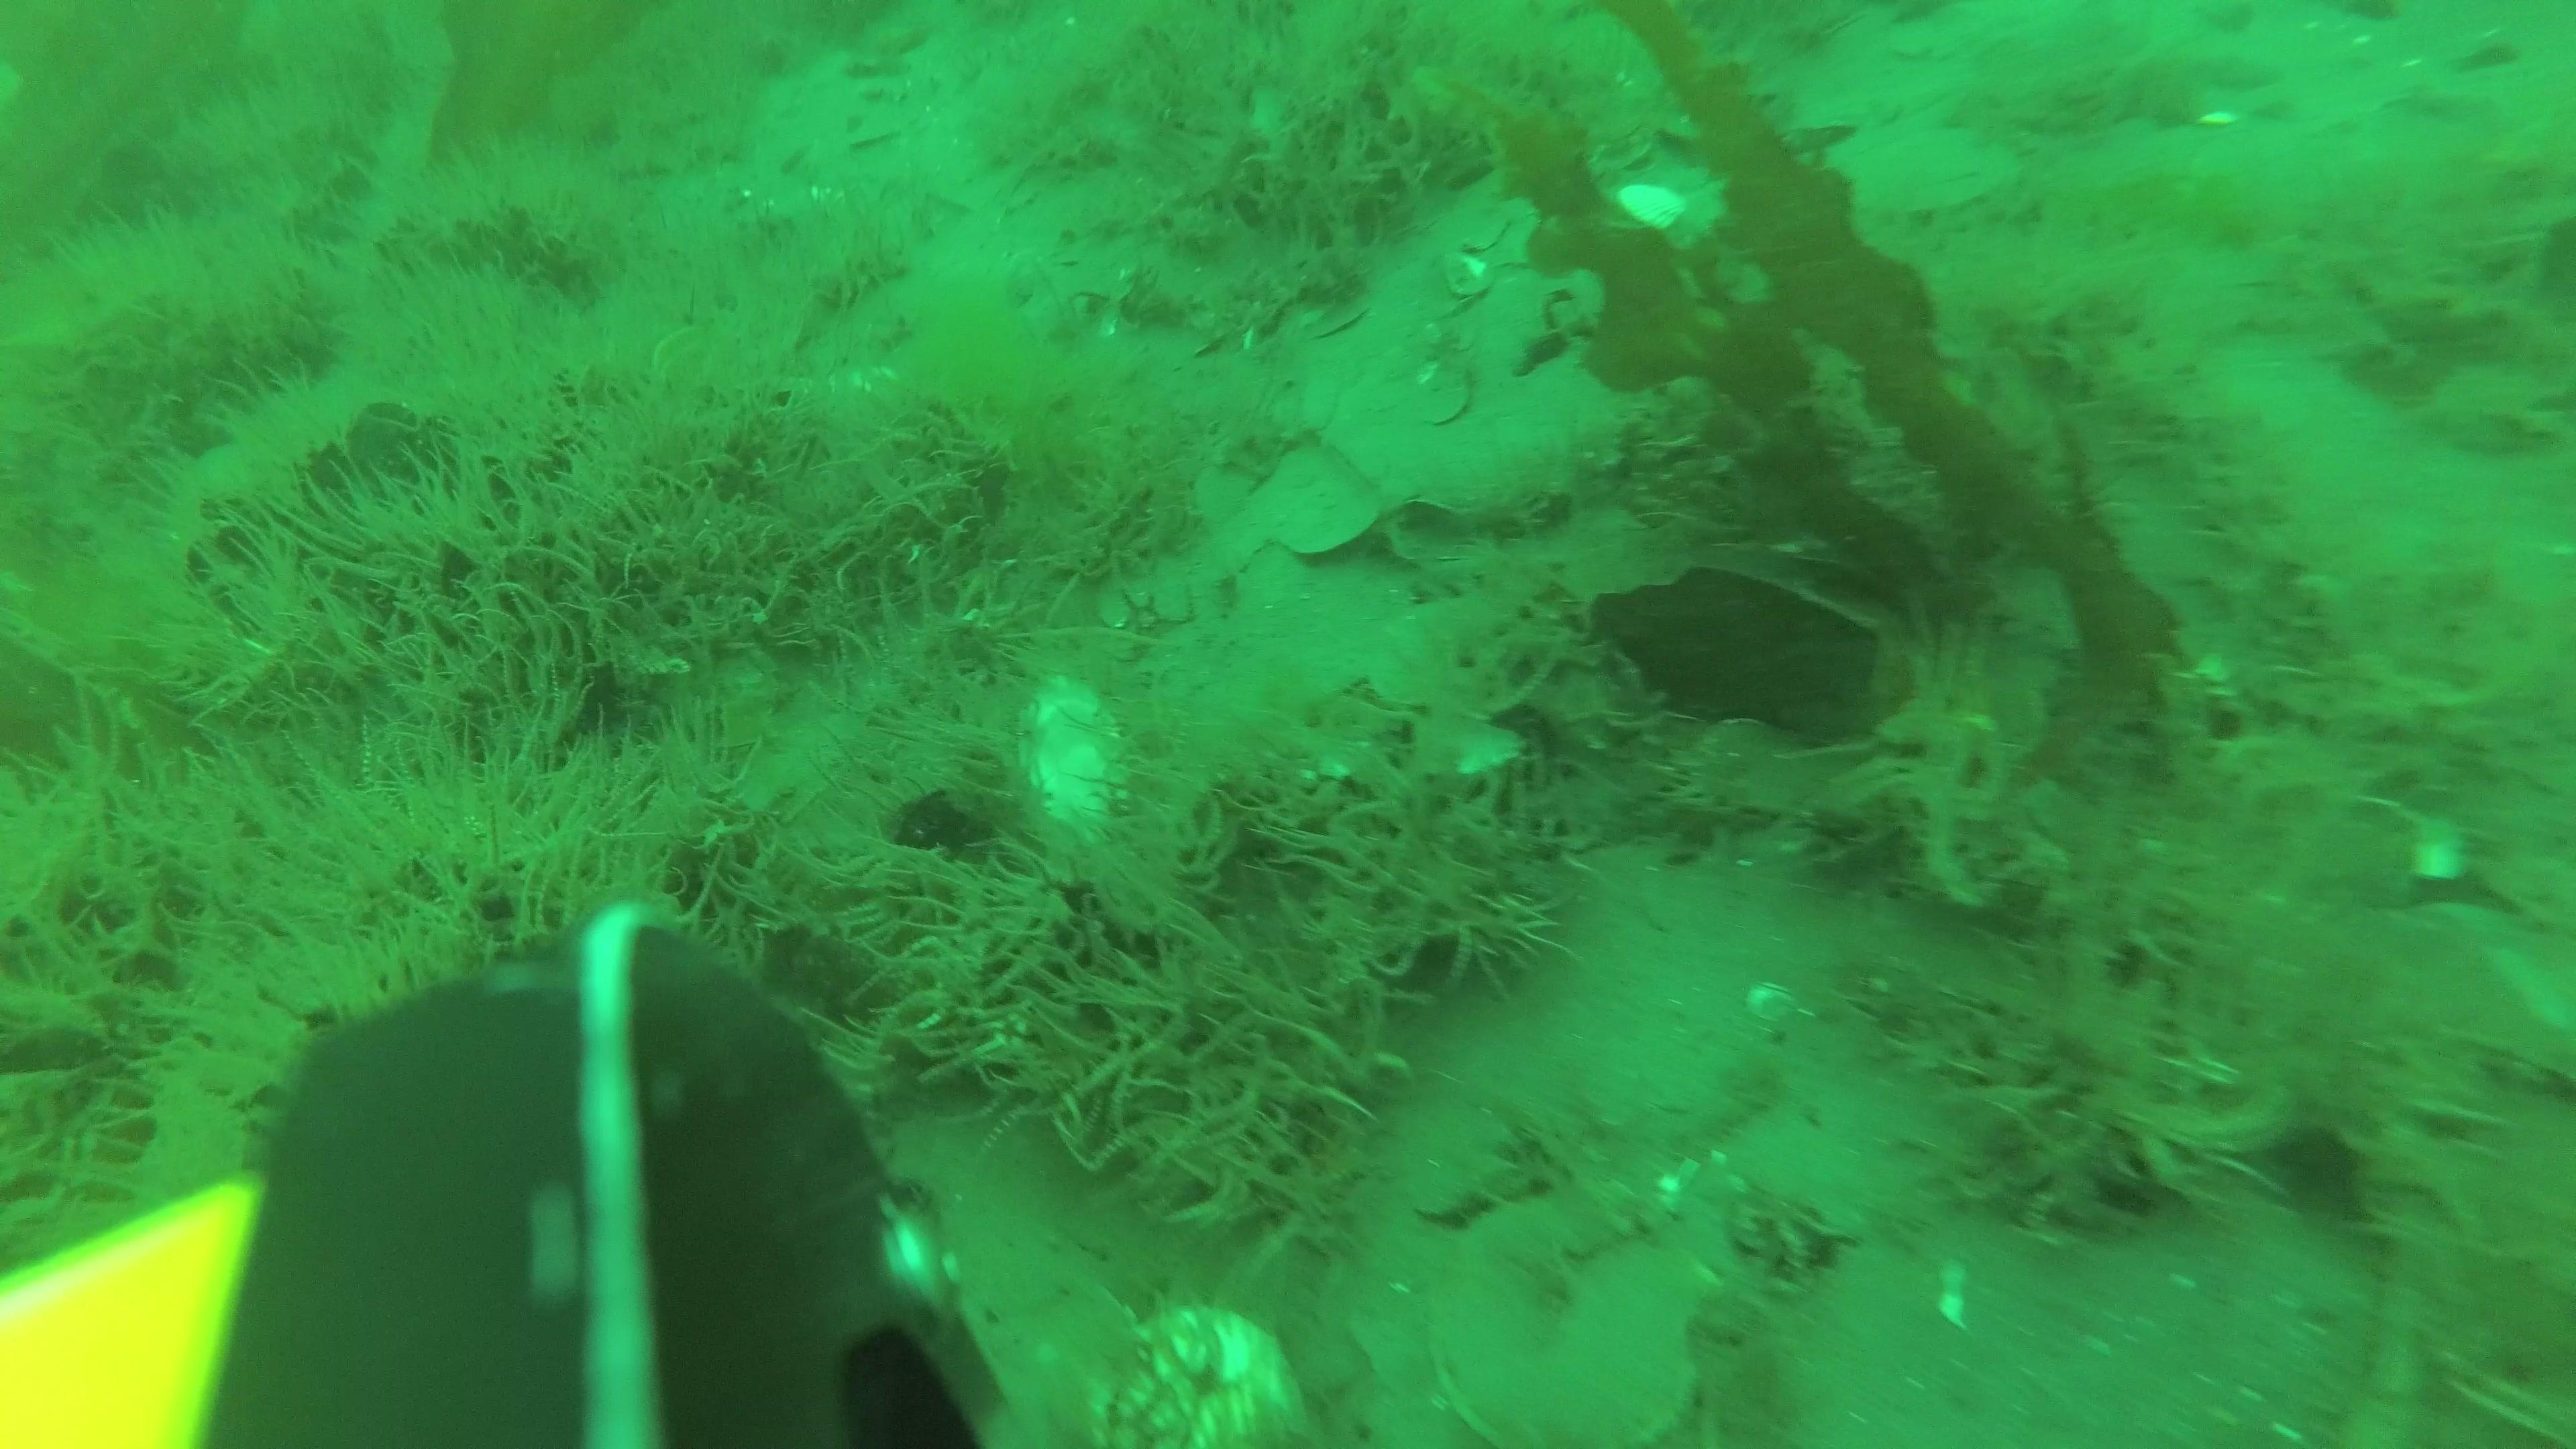scallop: (1421, 1180, 1718, 1449), (1086, 1306, 1309, 1449), (1014, 671, 1122, 839)
